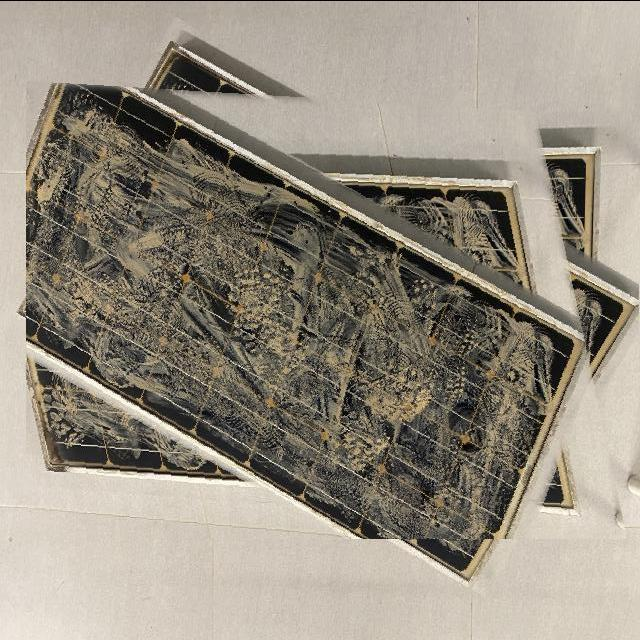Dusty: (21, 89, 572, 537), (356, 191, 528, 287), (546, 165, 591, 262), (571, 280, 609, 354)
